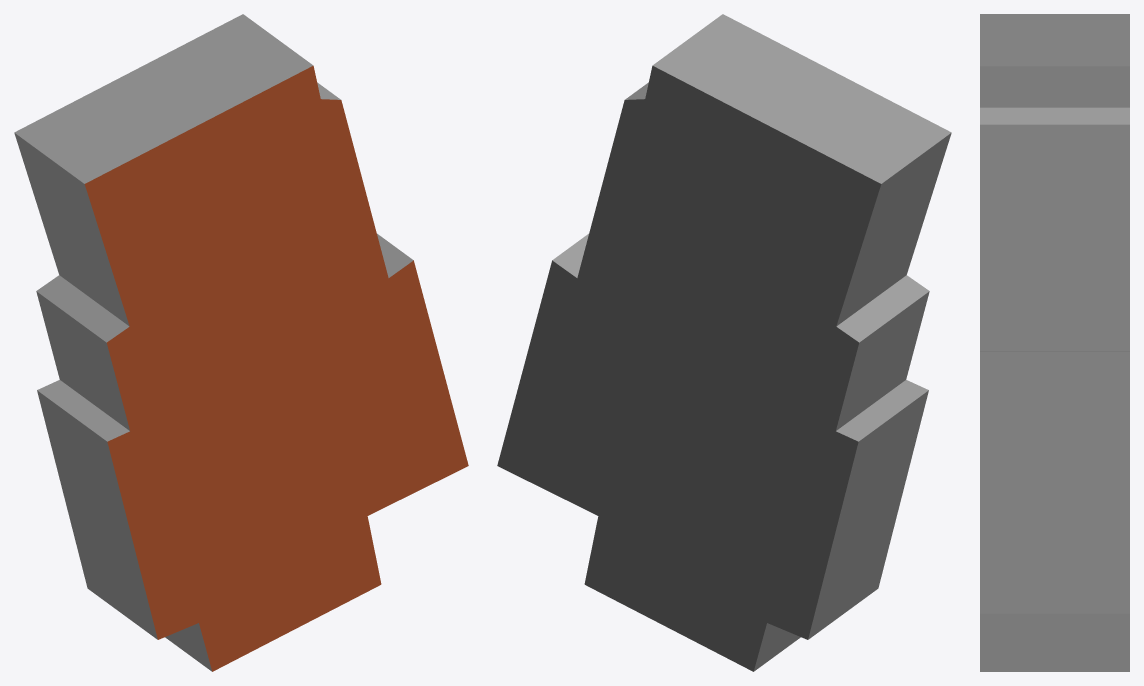
File: construction_0700_assumed_A_Casa_h6m.obj
3 views of the same model, side by side, from view 1: azimuth 30°, elevation 25°; view 2: azimuth 150°, elevation 25°; view 3: azimuth 270°, elevation 25° (orthographic). The views are drawn at different scales.
Visible parts, largest first — view 1: construction_0700_assumed_A_Casa; view 2: construction_0700_assumed_A_Casa; view 3: construction_0700_assumed_A_Casa.
Part boxes in pixels (bbox=[...]): construction_0700_assumed_A_Casa: bbox=[14, 14, 468, 671]; construction_0700_assumed_A_Casa: bbox=[497, 14, 951, 671]; construction_0700_assumed_A_Casa: bbox=[980, 14, 1129, 671].
Bounding box in the file's own units: 18.9 × 27.34 × 6.
